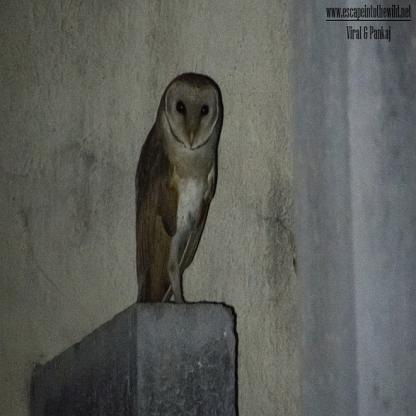Burung: (133, 70, 222, 303)
